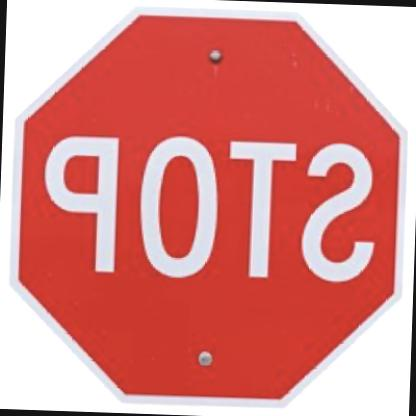stop: (3, 1, 414, 414)
